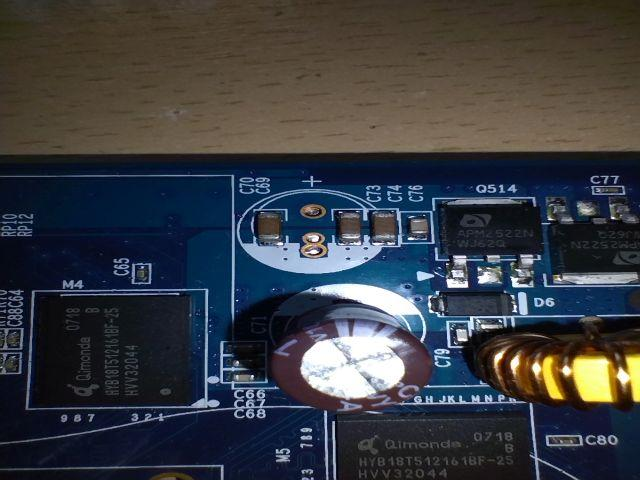capacitor: (366, 206, 404, 248), (252, 207, 287, 250), (401, 212, 438, 245), (334, 207, 363, 249), (546, 430, 587, 451), (589, 178, 629, 199), (225, 368, 266, 387), (129, 260, 154, 285)
